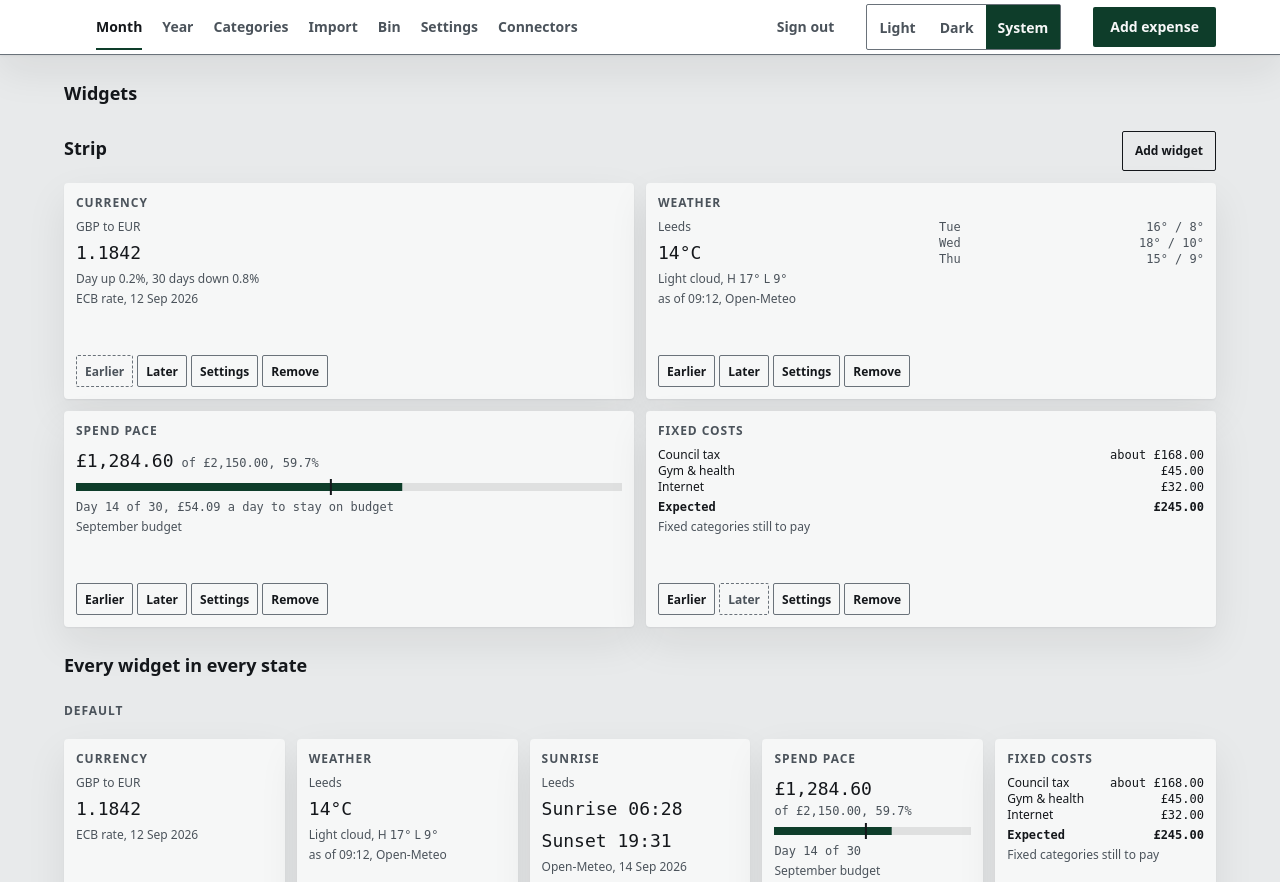
Test: add and remove › the add sheet lists absent kinds as buttons; adding appends; removing frees a kind
The width and height of the screenshot is (1280, 882).
Click the button with test id "add-widget" at x=1169, y=151, box [1122,131,1216,171]
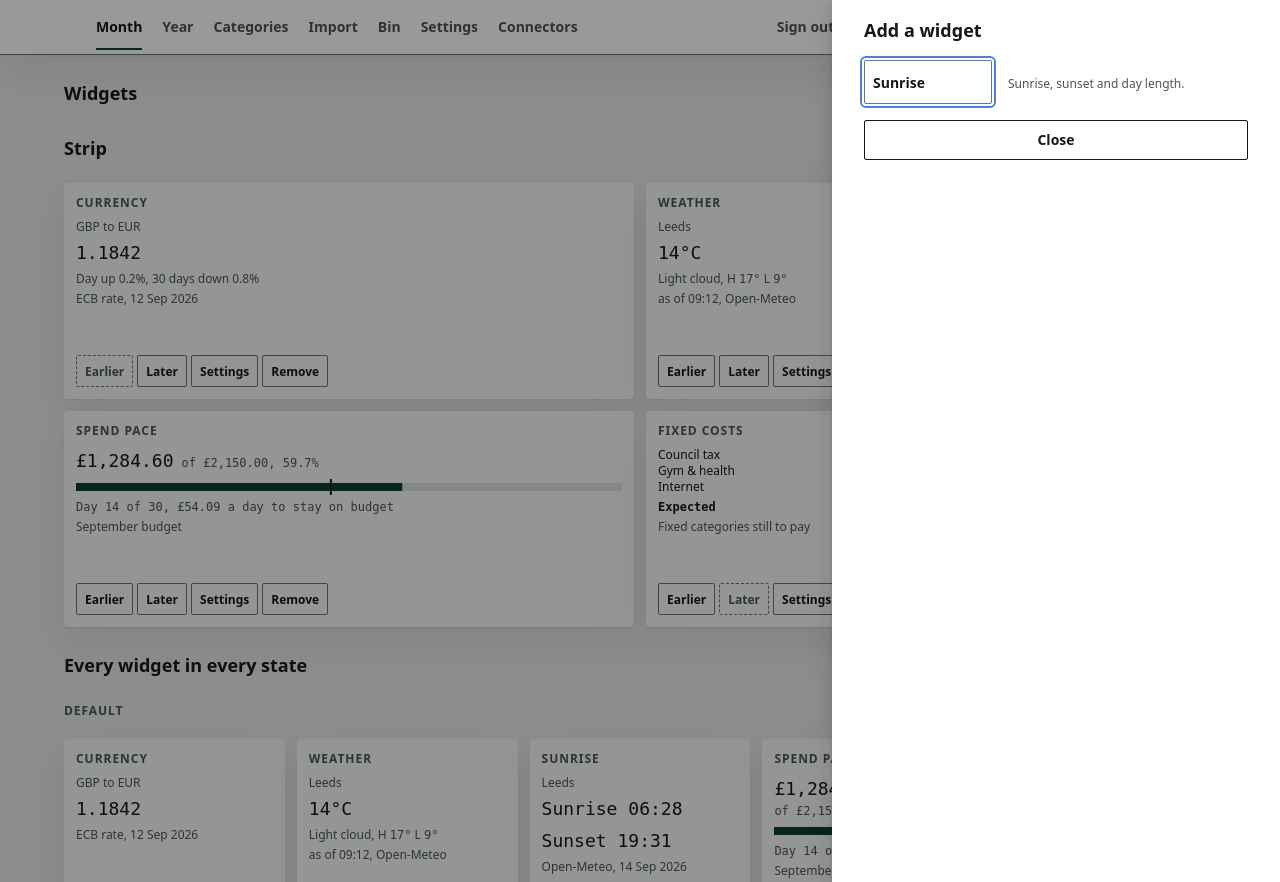
Click the button "Sunrise" at x=928, y=82, box [864,60,992,104]
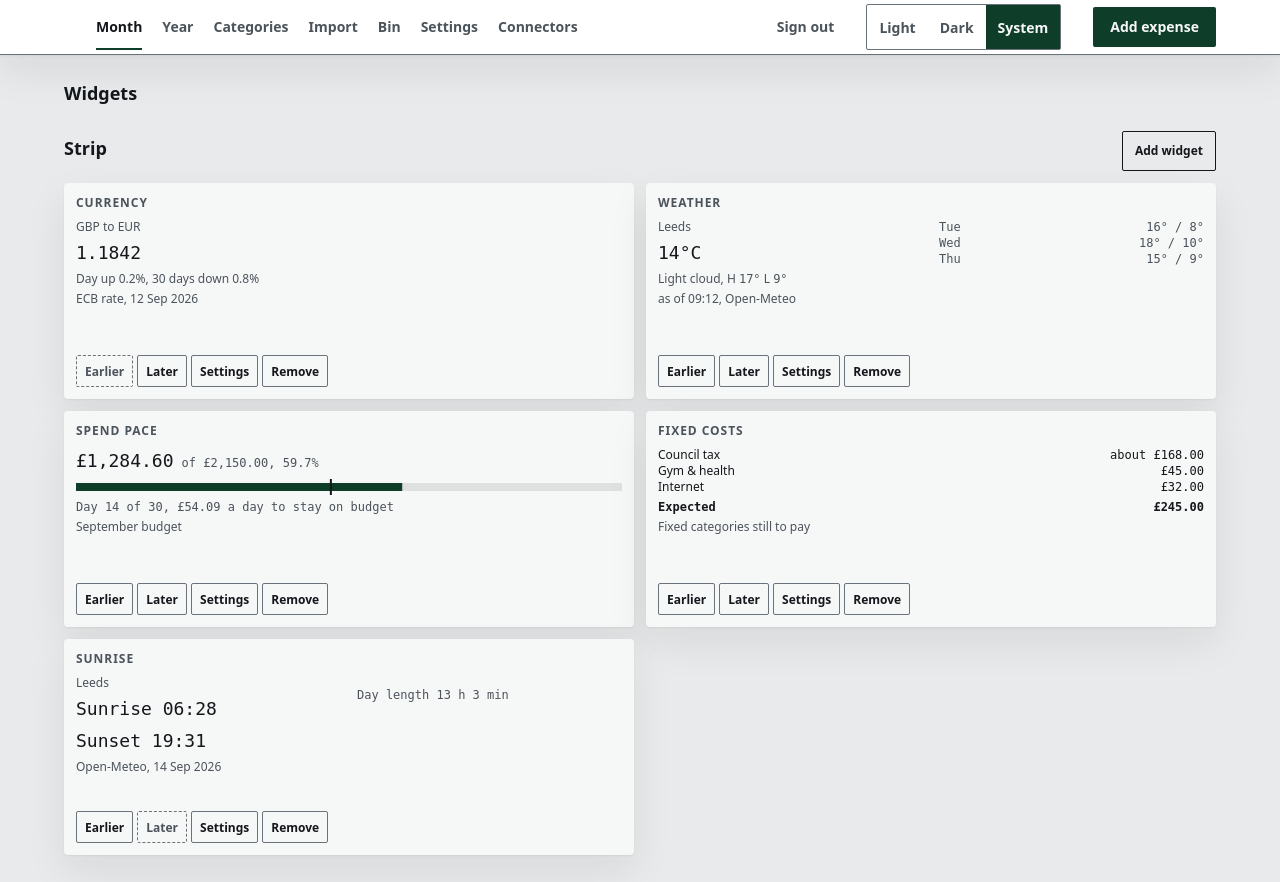
Click the button "Remove" below "Thu" at x=877, y=371, box [844,355,910,387]
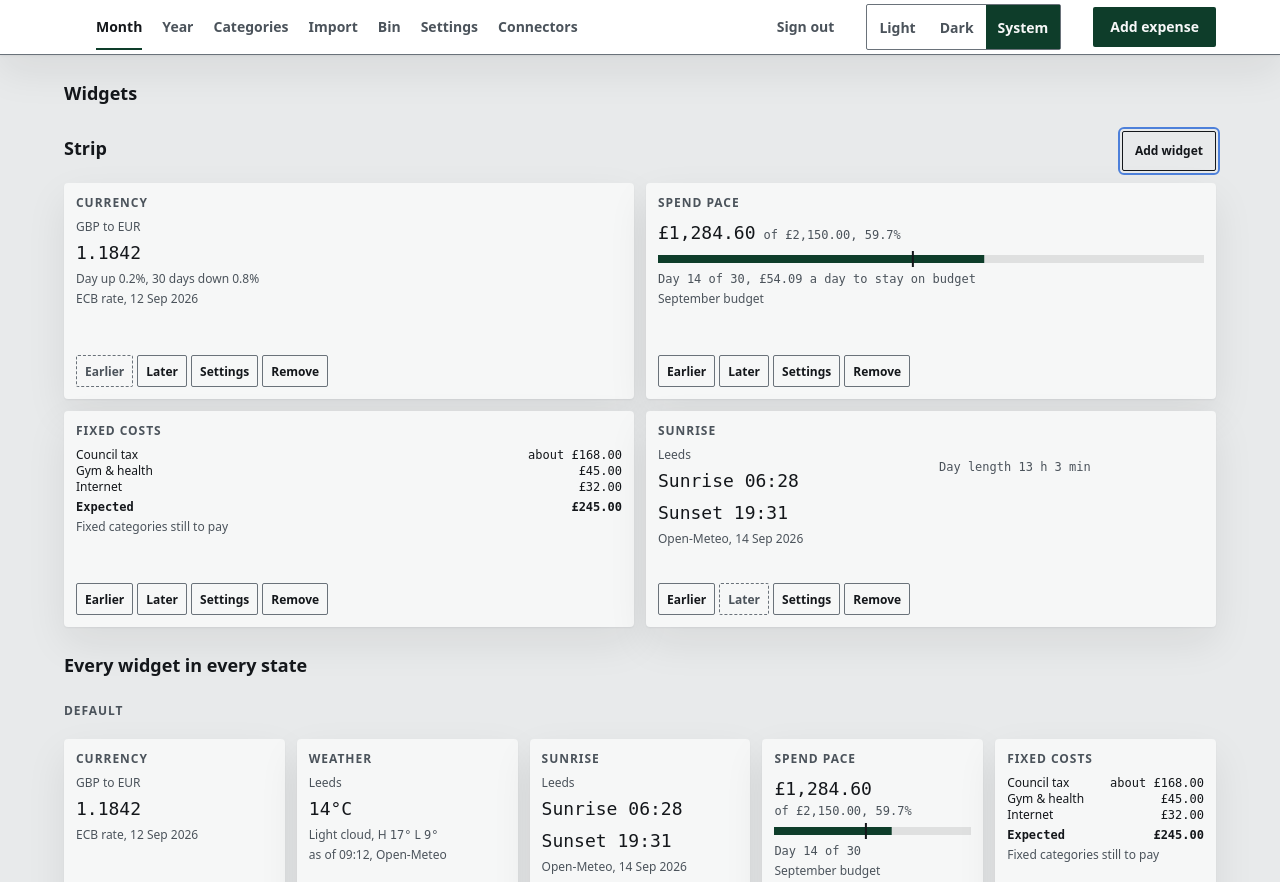
Click the button with test id "add-widget" at x=1169, y=151, box [1122,131,1216,171]
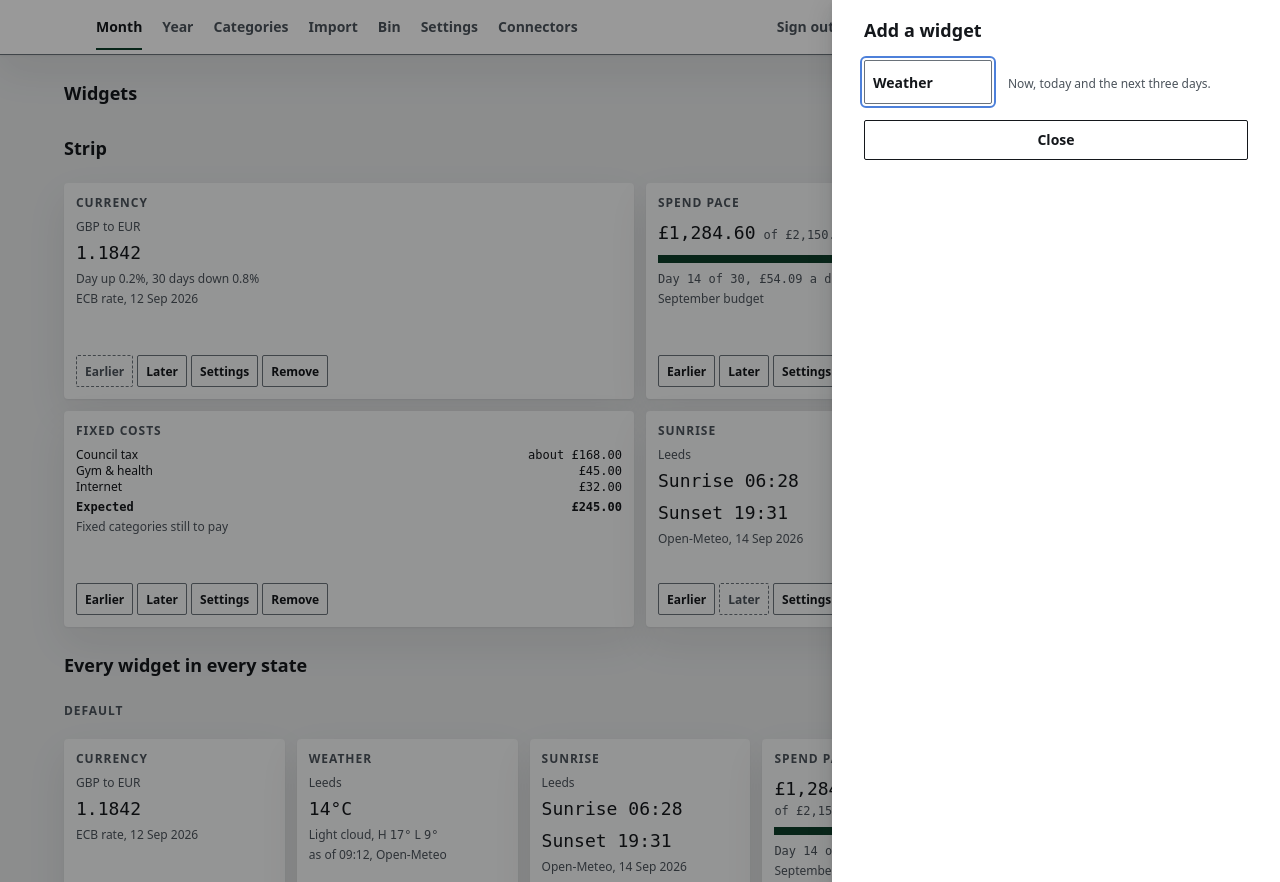
Result: the dialog shows "Weather" at [864,60,992,104]
